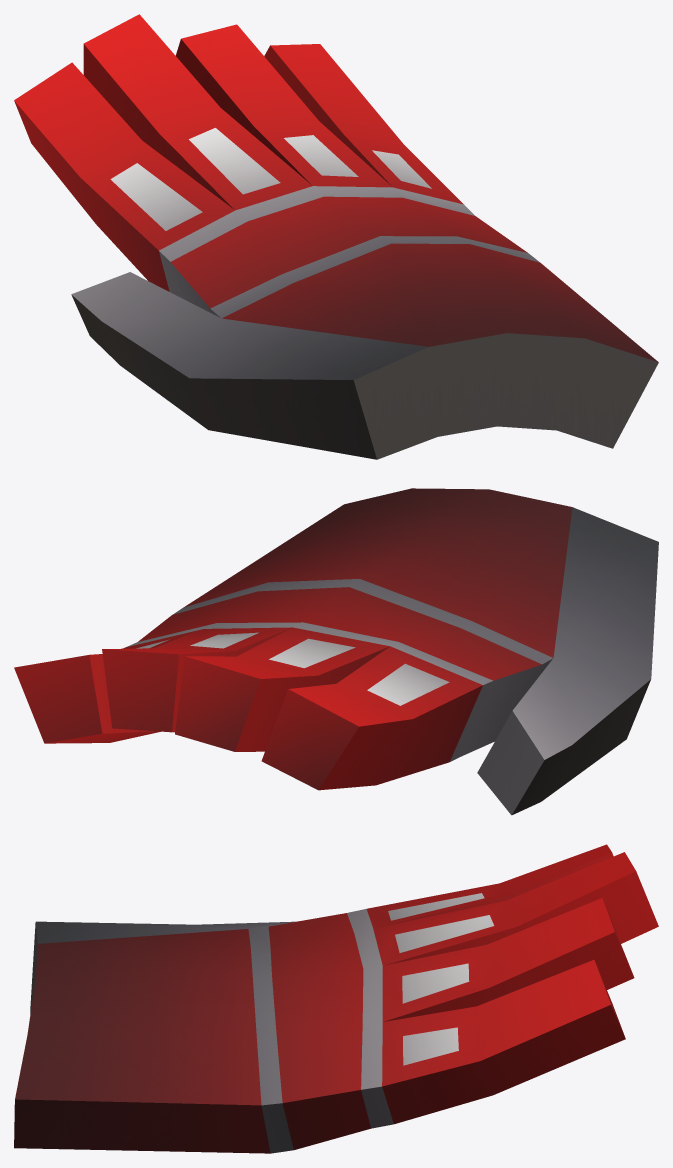
File: Hand_Right_Stretch.FBX
3 views of the same model, one above another, from view 1: azimuth 30°, elevation 25°; view 2: azimuth 150°, elevation 25°; view 3: azimuth 270°, elevation 25° (orthographic). The views are drawn at different scales.
Visible parts, largest first — view 1: Hand_Right_Stretch; view 2: Hand_Right_Stretch; view 3: Hand_Right_Stretch.
Part boxes in pixels (x1=…): Hand_Right_Stretch: x1=14, y1=14, x2=658, y2=459; Hand_Right_Stretch: x1=14, y1=488, x2=658, y2=815; Hand_Right_Stretch: x1=14, y1=844, x2=658, y2=1153.
Size of the model in its own units: 0.7012 by 0.3818 by 1.05.
Materials: 1 (1 with a texture image).
